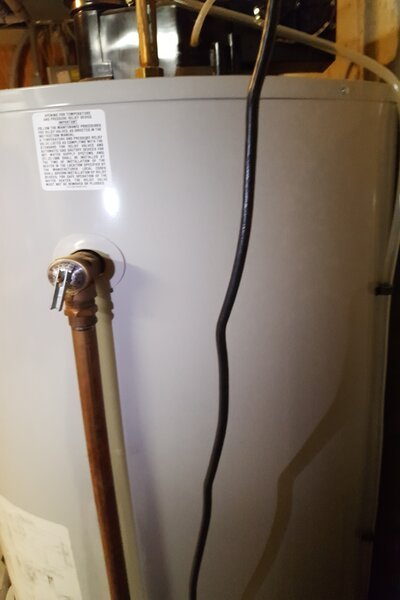valve: (48, 249, 102, 334)
